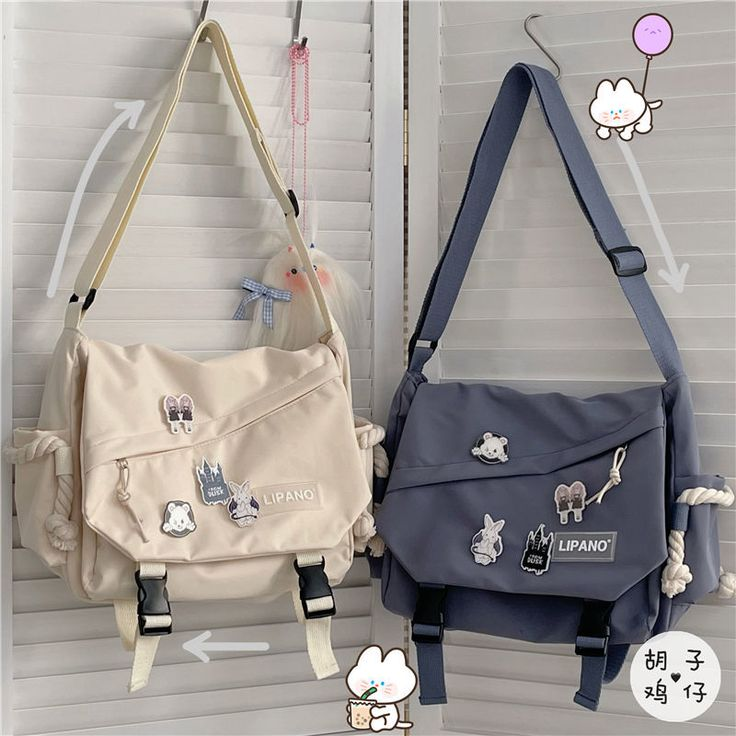nylon: (12, 24, 723, 710)
